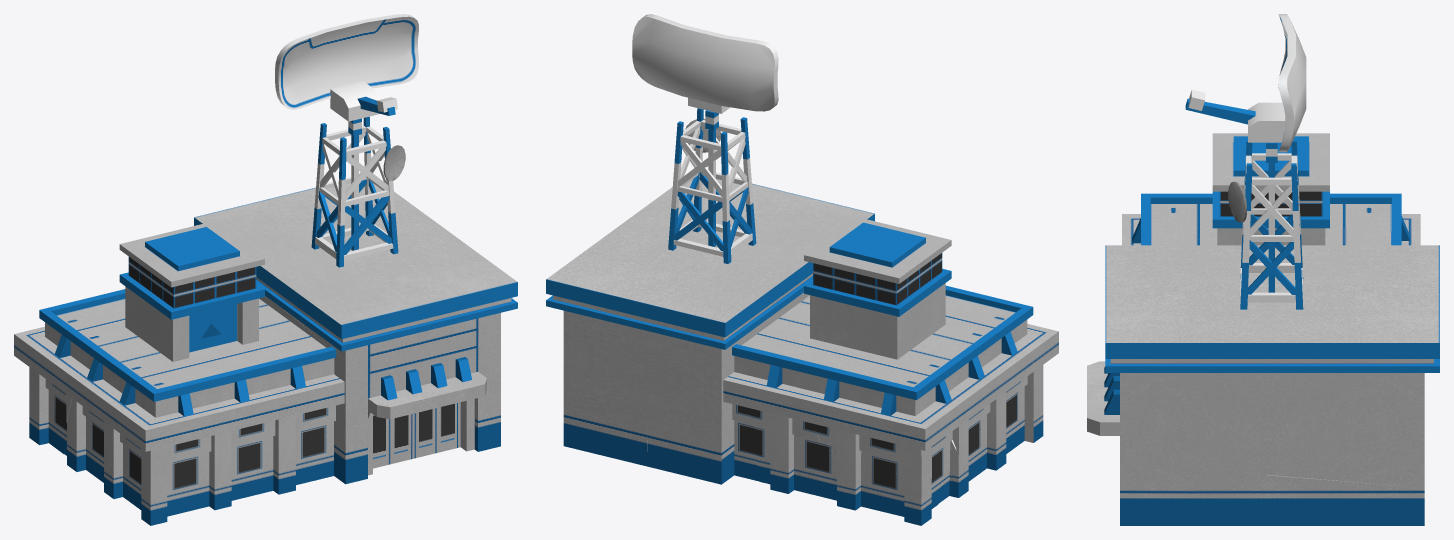
File: Main Base 3.fbx
3 views of the same model, side by side, from view 1: azimuth 30°, elevation 25°; view 2: azimuth 150°, elevation 25°; view 3: azimuth 270°, elevation 25° (orthographic). The views are drawn at different scales.
Visible parts, largest first — view 1: Cut_25, Cut_1, Cut_28, Cut_2, Cut_5, Cut_12, Cut_26, Cut_27, Cut_21, Cut_9, Cut_17, Cut_7 (+9 smaller); view 2: Cut_25, Cut_1, Cut_2, Cut_5, Cut_19, Cut_14, Cut_23, Cut_26, Cut_13, Cut_28, Cut_6, Cut_9 (+8 smaller); view 3: Cut_1, Cut_19, Cut_27, Cut_25, Cut_5, Cut_17, Cut_28, Cut_20, Cut_2, Cut_4, Cut_6, Cut_7 (+2 smaller).
Part boxes in pixels (x1,y1,x2,y2): Cut_25: [14, 289, 283, 451]; Cut_1: [194, 183, 517, 302]; Cut_28: [270, 272, 517, 351]; Cut_2: [275, 14, 418, 121]; Cut_5: [311, 116, 405, 267]; Cut_12: [131, 427, 246, 525]; Cut_26: [236, 299, 344, 418]; Cut_27: [423, 313, 500, 407]; Cut_21: [280, 307, 437, 423]; Cut_9: [64, 398, 135, 505]; Cut_17: [413, 391, 500, 458]; Cut_7: [135, 246, 224, 319]; Cut_25: [783, 285, 1058, 450]; Cut_1: [546, 179, 802, 349]; Cut_2: [632, 14, 778, 113]; Cut_5: [668, 108, 756, 263]; Cut_19: [563, 310, 648, 429]; Cut_14: [811, 422, 964, 525]; Cut_23: [648, 301, 791, 444]; Cut_26: [723, 295, 826, 416]; Cut_13: [750, 408, 837, 505]; Cut_28: [716, 179, 874, 293]; Cut_6: [832, 235, 925, 316]; Cut_9: [938, 388, 1011, 503]; Cut_1: [1105, 245, 1439, 372]; Cut_19: [1267, 373, 1424, 487]; Cut_27: [1087, 373, 1267, 474]; Cut_25: [1122, 193, 1420, 245]; Cut_5: [1228, 139, 1303, 309]; Cut_17: [1120, 463, 1267, 525]; Cut_28: [1105, 245, 1260, 365]; Cut_20: [1267, 475, 1424, 525]; Cut_2: [1185, 14, 1306, 152]; Cut_4: [1212, 159, 1329, 228]; Cut_6: [1261, 133, 1329, 196]; Cut_7: [1212, 133, 1263, 163].
Size of the model in its own units: 612 by 616 by 451.
1 material, 1 textured.
